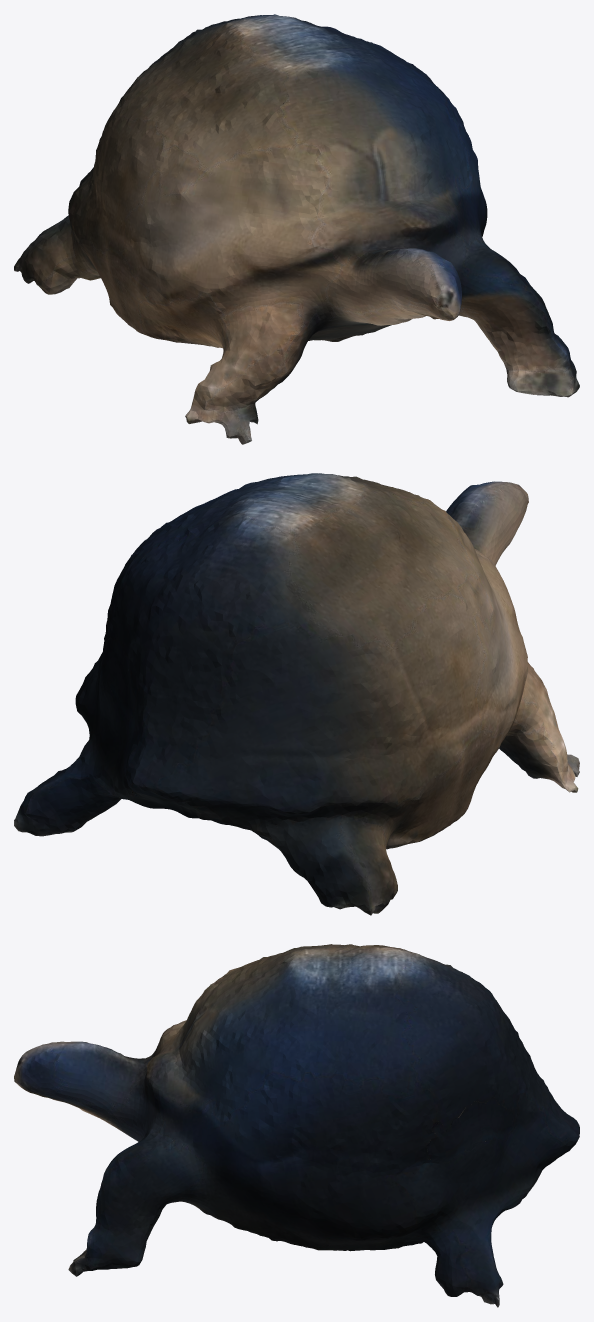
3 views of the same model, one above another, from view 1: azimuth 30°, elevation 25°; view 2: azimuth 150°, elevation 25°; view 3: azimuth 270°, elevation 25° (orthographic). The views are drawn at different scales.
Visible parts, largest first — view 1: Mesh_0; view 2: Mesh_0; view 3: Mesh_0.
Part boxes in pixels (box(x1,y1,x2,y2)): Mesh_0: box(14, 14, 579, 444); Mesh_0: box(14, 473, 579, 915); Mesh_0: box(14, 944, 579, 1307).
Bounding box in the file's own units: 1.14 × 0.8974 × 1.69.
Materials: 1 (1 with a texture image).
